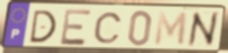0: (126, 9, 154, 48)
C: (92, 11, 124, 45)
D: (28, 9, 58, 45)
E: (59, 8, 93, 47)
M: (153, 11, 189, 47)
N: (186, 10, 220, 49)
